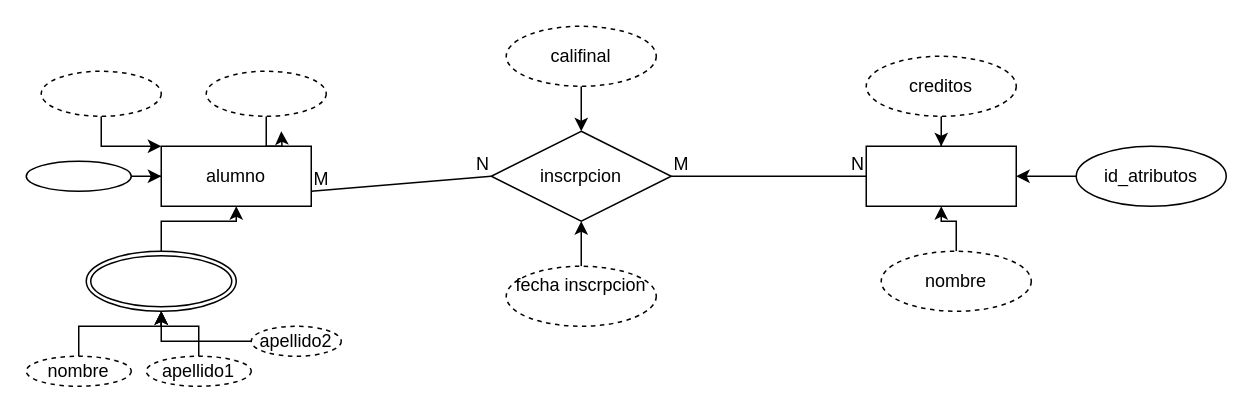
Some shapes in this 1253 by 413 pixel diagram are drawn without their labels. The centre of each missing label's shape, as x and y in pixels:
"Attribute" goes at pixel 160 280.
"id_alumno" goes at pixel 78 175.
"materia" goes at pixel 940 175.
"matricula" goes at pixel 100 93.
"semestre" goes at pixel 265 93.
